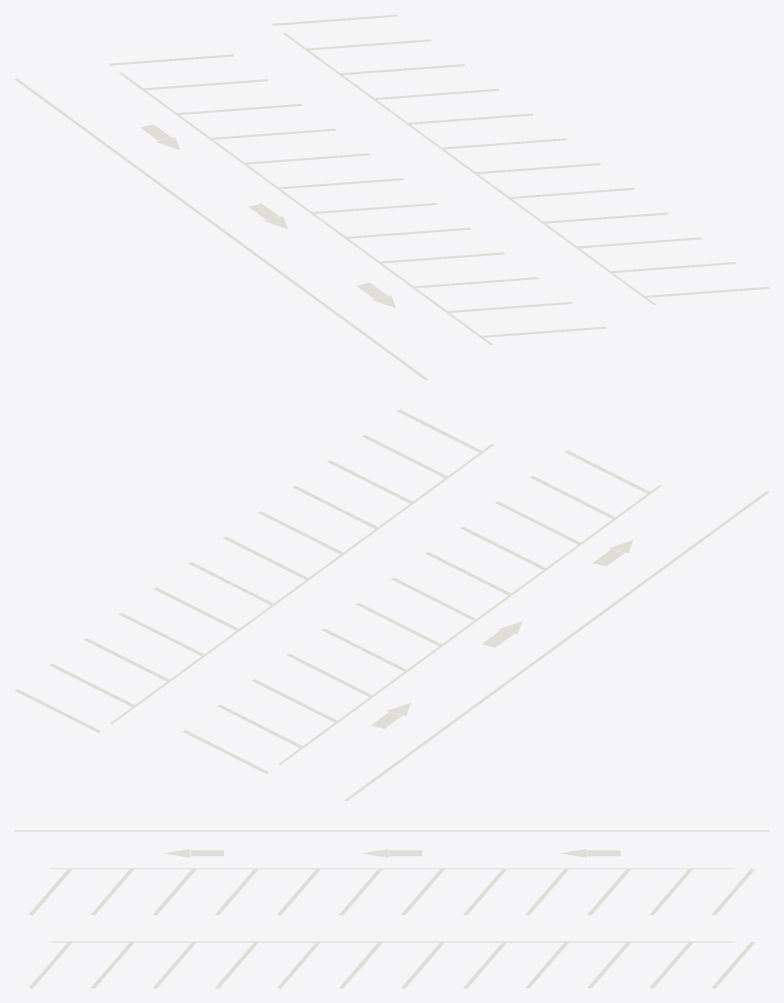
Rendered from lot_stall_lines.glb.
3 views of the same model, one above another, from view 1: azimuth 30°, elevation 25°; view 2: azimuth 150°, elevation 25°; view 3: azimuth 270°, elevation 25° (orthographic). The views are drawn at different scales.
Parts seen in each view (by area): view 1: lot_stall_lines; view 2: lot_stall_lines; view 3: lot_stall_lines.
Part boxes in pixels (<box>): lot_stall_lines: <box>14,14,769,380</box>; lot_stall_lines: <box>14,409,769,801</box>; lot_stall_lines: <box>14,830,769,988</box>.
Bounding box in the file's own units: 16.07 × 0.004 × 32.4.
1 material, 1 textured.
